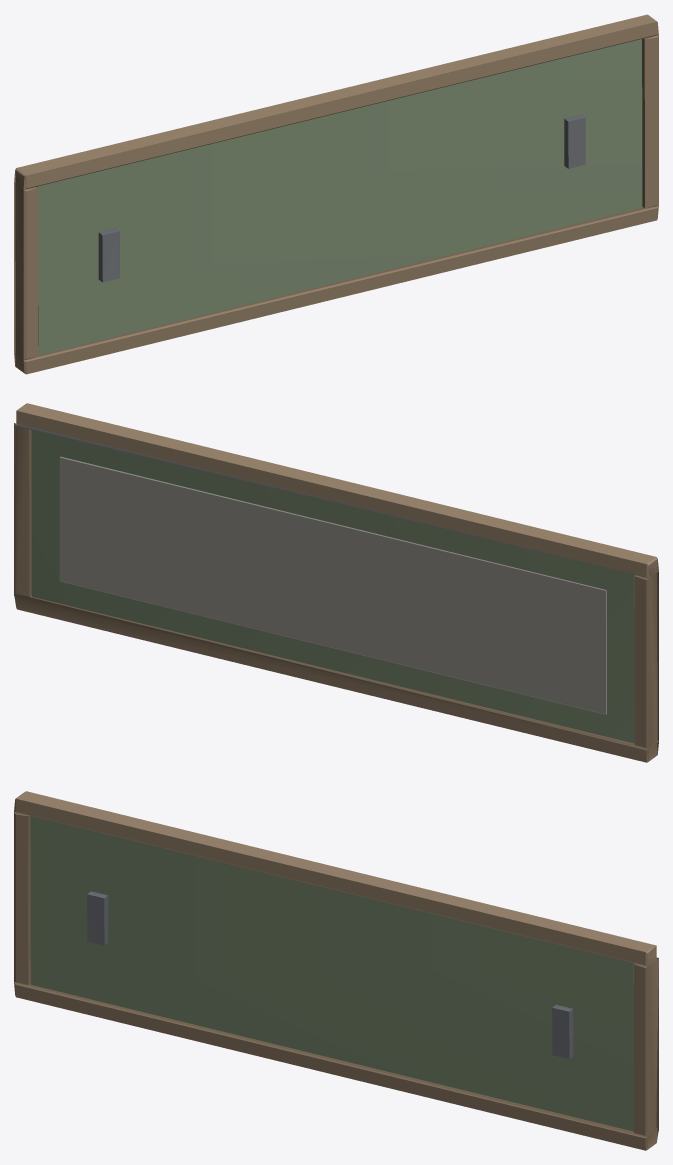
File: sign_wall_low.glb
The picture shows the model from 3 angles, top to bottom: view 1: azimuth 30°, elevation 25°; view 2: azimuth 150°, elevation 25°; view 3: azimuth 330°, elevation 25°; orthographic projection.
Size of the model in its own units: 2.73 by 0.8166 by 0.0975.
